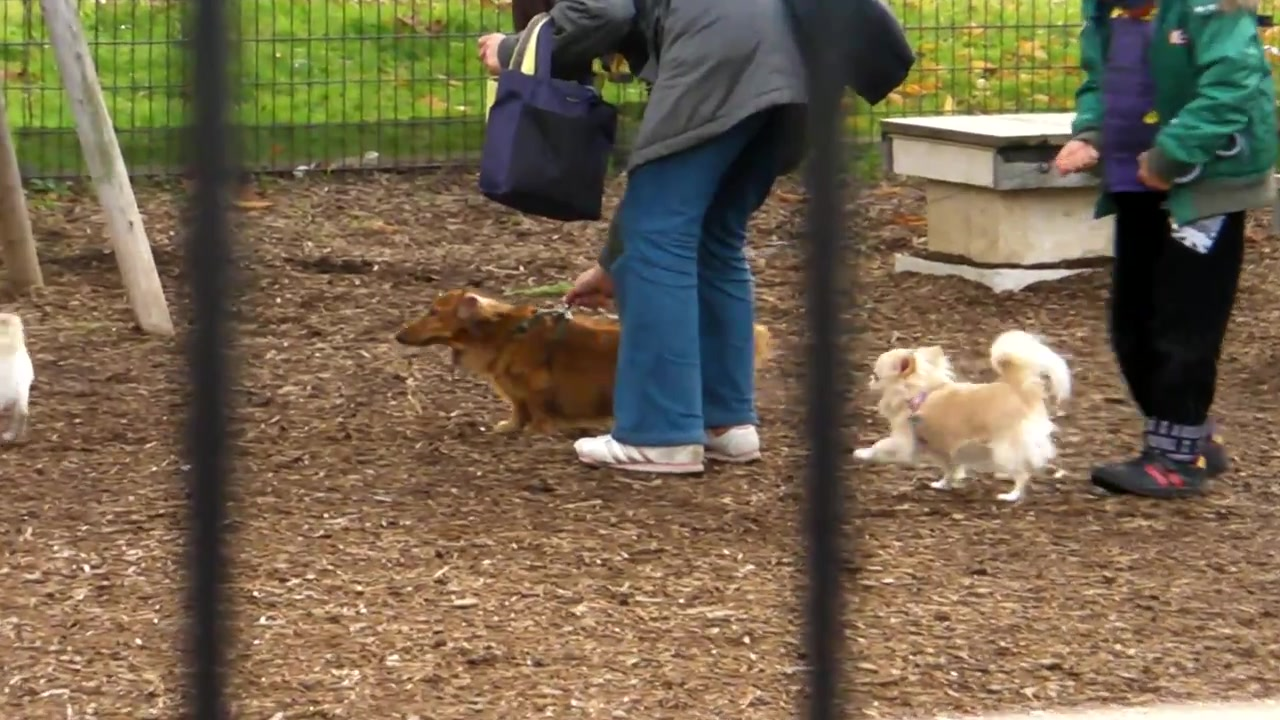dog: (859, 331, 1071, 505)
